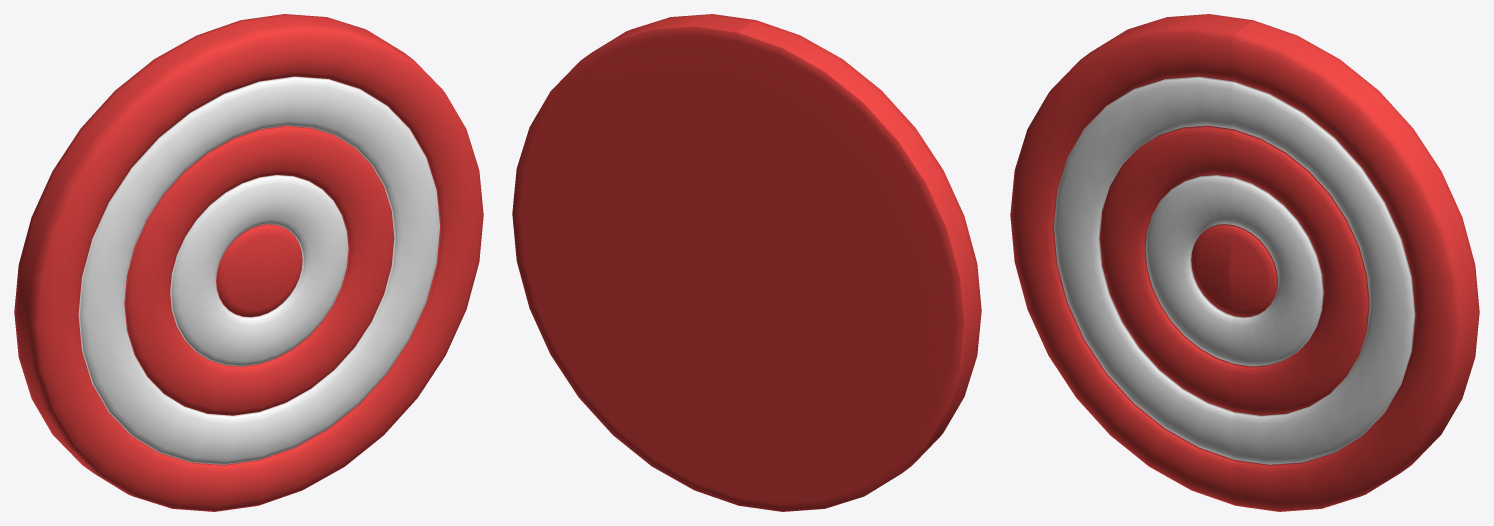
The model's file is DIANA_ROJA_SEPARADA.fbx.
3 renders of one model, left to right at view 1: azimuth 30°, elevation 25°; view 2: azimuth 150°, elevation 25°; view 3: azimuth 330°, elevation 25°, orthographic.
Parts seen in each view (by area): view 1: Diana_izq, Diana_der; view 2: Diana_izq, Diana_der; view 3: Diana_der, Diana_izq.
Boxes of the visible parts, <box> form: Diana_izq: <box>14,20,264,511</box>; Diana_der: <box>241,14,483,505</box>; Diana_izq: <box>738,20,981,511</box>; Diana_der: <box>512,14,755,505</box>; Diana_der: <box>1229,20,1479,511</box>; Diana_izq: <box>1010,14,1252,505</box>.
Size of the model in its own units: 199 by 199 by 19.18.
